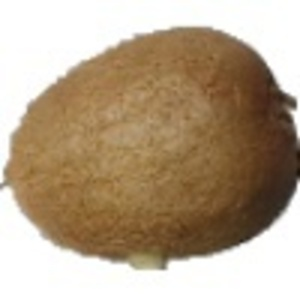kiwi: (1, 24, 300, 273)
